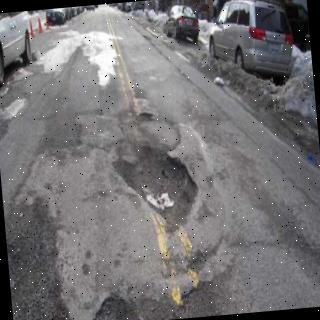pothole: (112, 137, 200, 228)
